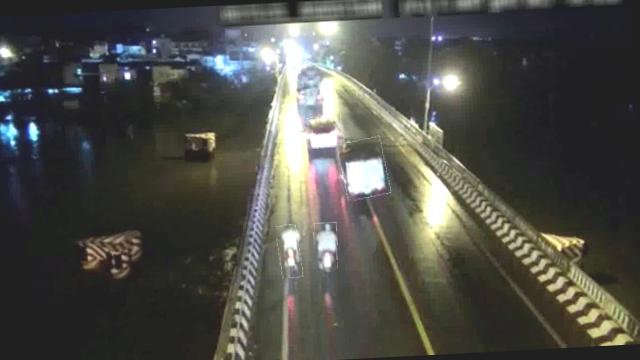Bike: (276, 224, 302, 279), (313, 222, 338, 270)
Car: (304, 114, 343, 150)
Truck: (338, 136, 388, 198)
